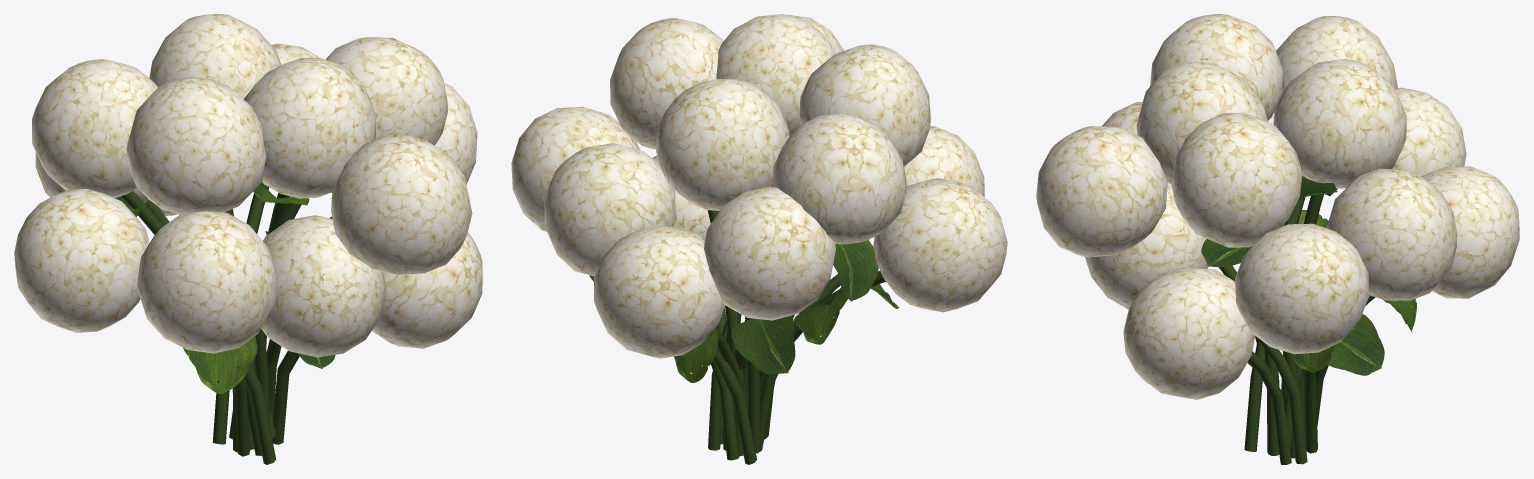
Rendered from DecorFlowerHydr01_1.FBX.
The picture shows the model from 3 angles, left to right: view 1: azimuth 30°, elevation 25°; view 2: azimuth 150°, elevation 25°; view 3: azimuth 270°, elevation 25°; orthographic projection. The views are drawn at different scales.
Visible parts, largest first — view 1: DecorFlowerHydr01_1; view 2: DecorFlowerHydr01_1; view 3: DecorFlowerHydr01_1.
Boxes of the visible parts, x1,y1,x2,y2 form: DecorFlowerHydr01_1: (14,14,482,464); DecorFlowerHydr01_1: (511,14,1007,464); DecorFlowerHydr01_1: (1036,14,1519,464).
Size of what is drawn, in the model's own units: 0.5985 by 0.5016 by 0.5616.
